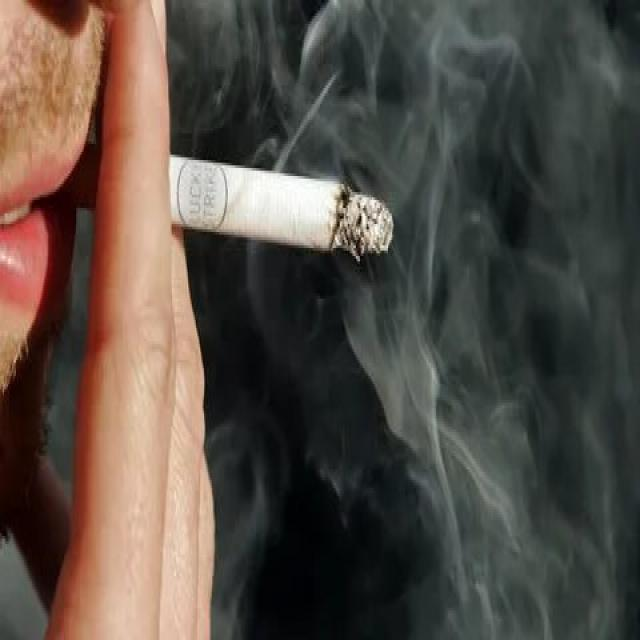cigarette: (142, 123, 402, 274)
